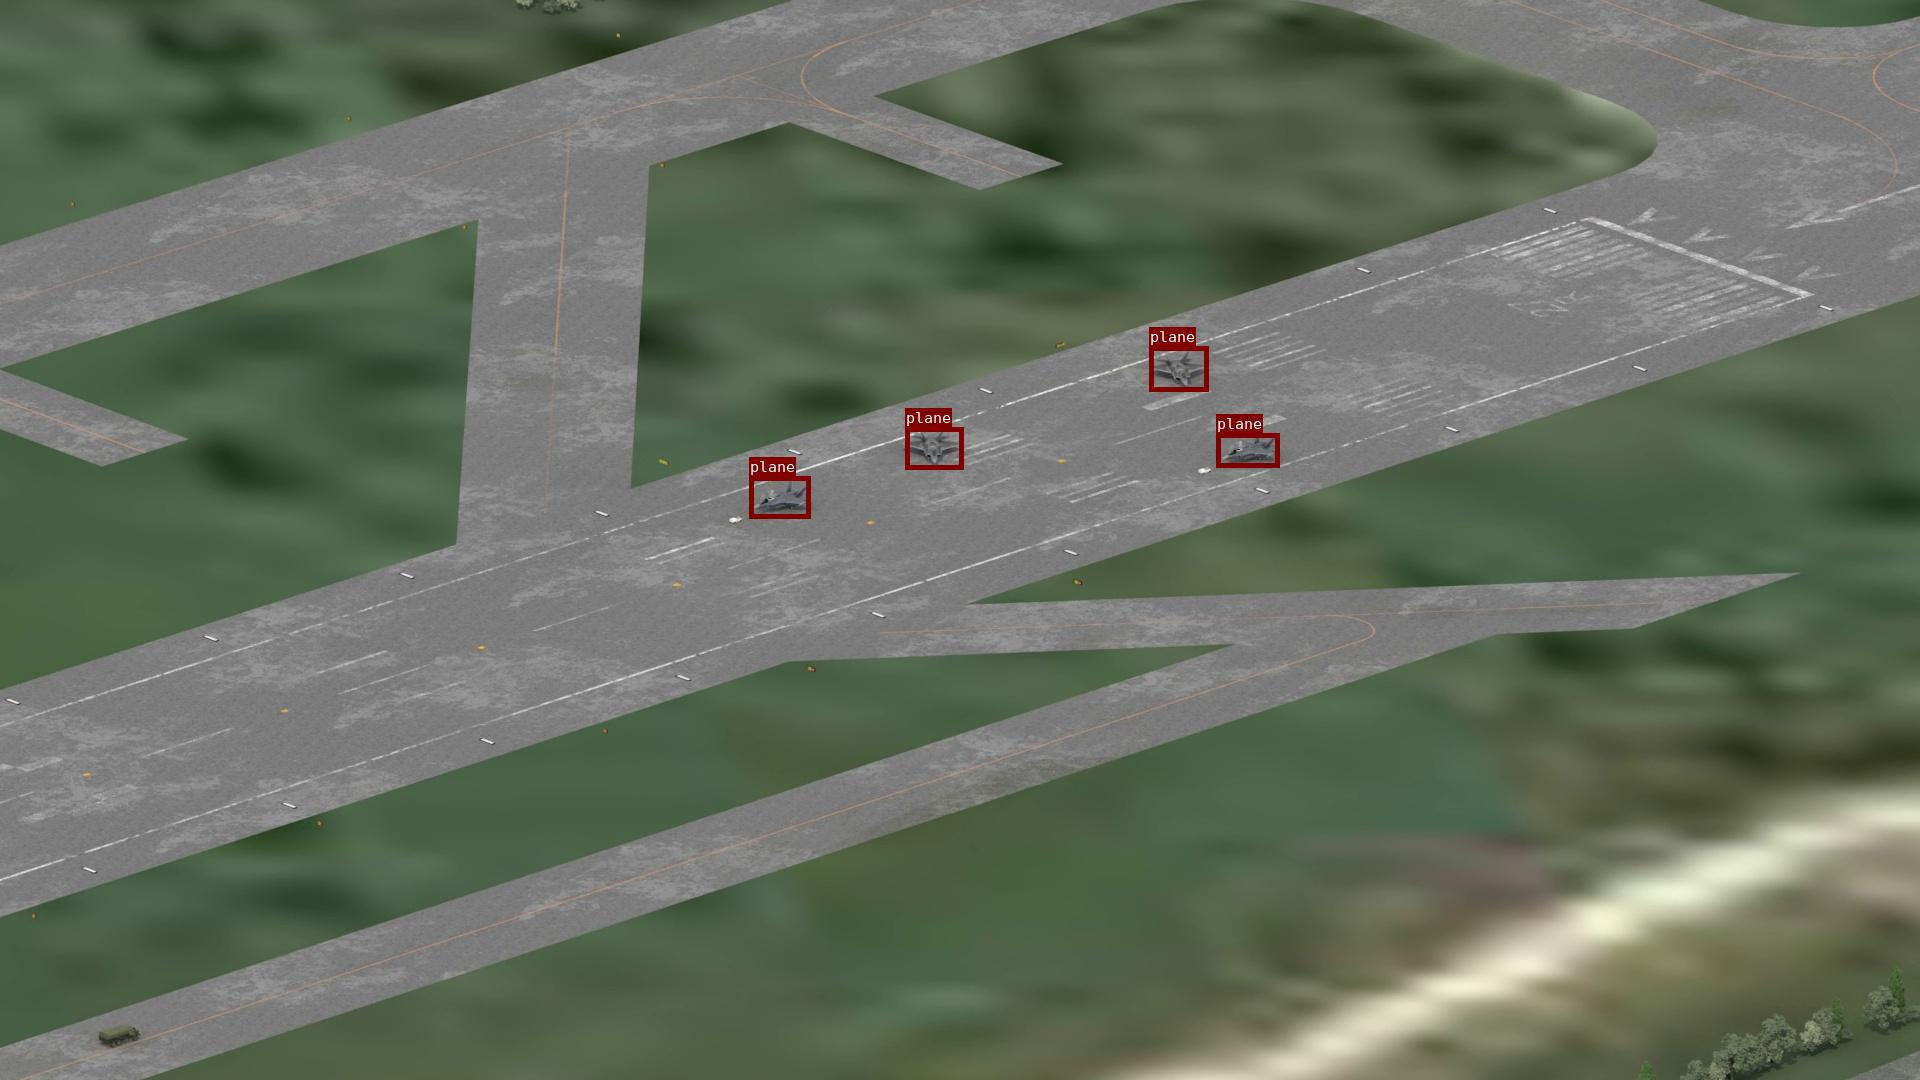plane: (1149, 345, 1208, 392), (749, 476, 810, 518), (905, 427, 963, 469), (1216, 433, 1279, 467)
